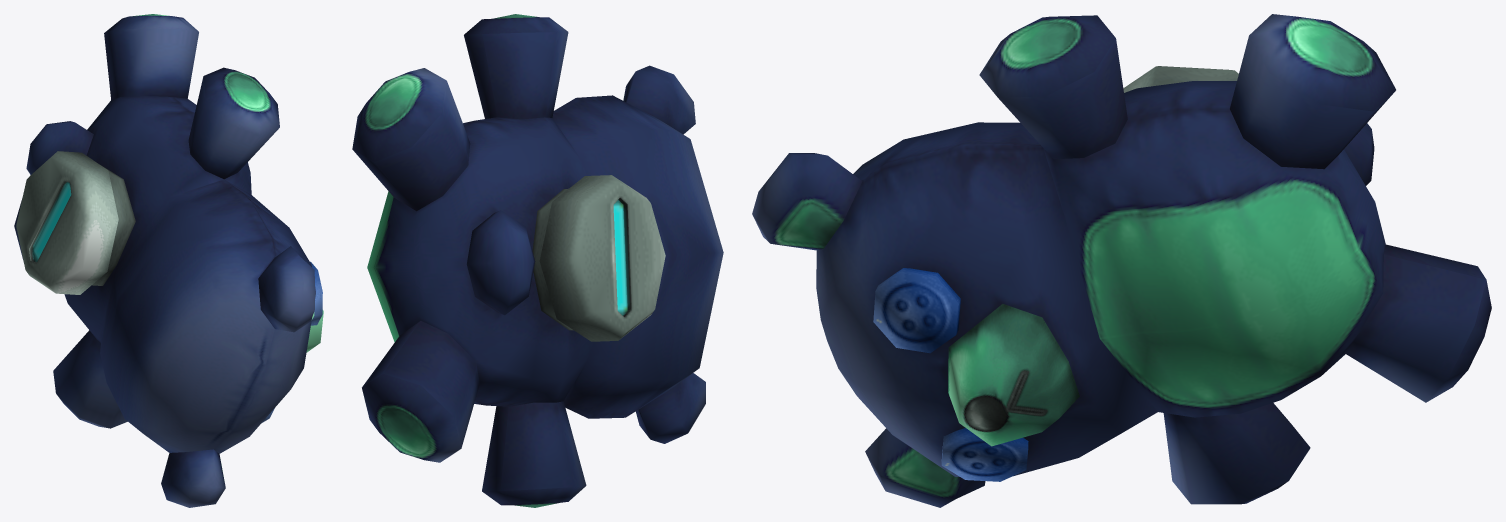
The picture shows the model from 3 angles, left to right: view 1: azimuth 30°, elevation 25°; view 2: azimuth 150°, elevation 25°; view 3: azimuth 270°, elevation 25°; orthographic projection. The views are drawn at different scales.
Parts seen in each view (by area): view 1: teddy.part_model-Mesh[0]; view 2: teddy.part_model-Mesh[0]; view 3: teddy.part_model-Mesh[0].
Boxes of the visible parts, left/top/right/bottom form: teddy.part_model-Mesh[0]: left=14, top=14, right=323, bottom=507; teddy.part_model-Mesh[0]: left=352, top=14, right=723, bottom=507; teddy.part_model-Mesh[0]: left=752, top=14, right=1491, bottom=507.
Size of the model in its own units: 0.3245 by 0.5621 by 0.6916.
Materials: 1 (1 with a texture image).
